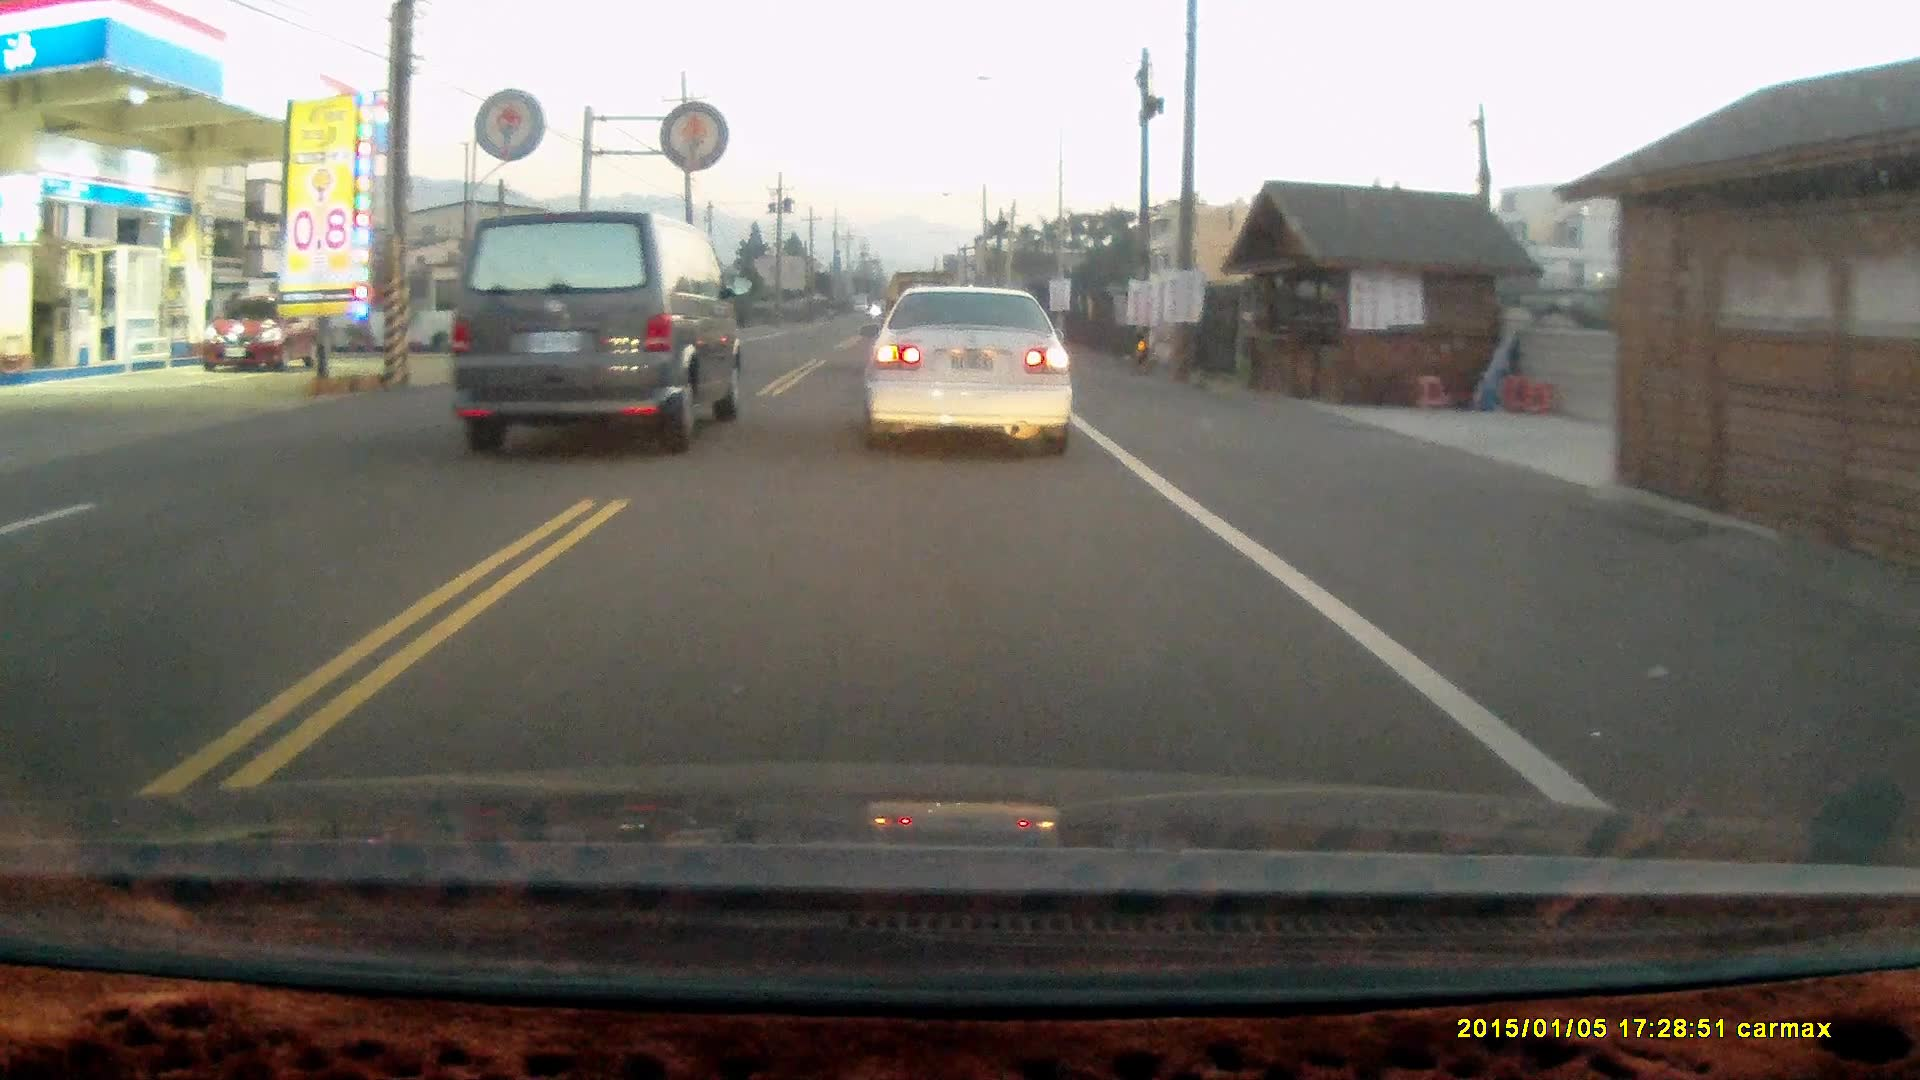vehicle: (442, 208, 745, 454), (862, 282, 1084, 462), (206, 294, 309, 375)
